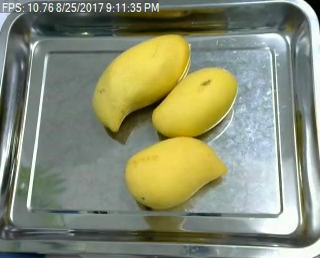Mango: (90, 31, 195, 136), (123, 135, 228, 209), (151, 66, 241, 138)
